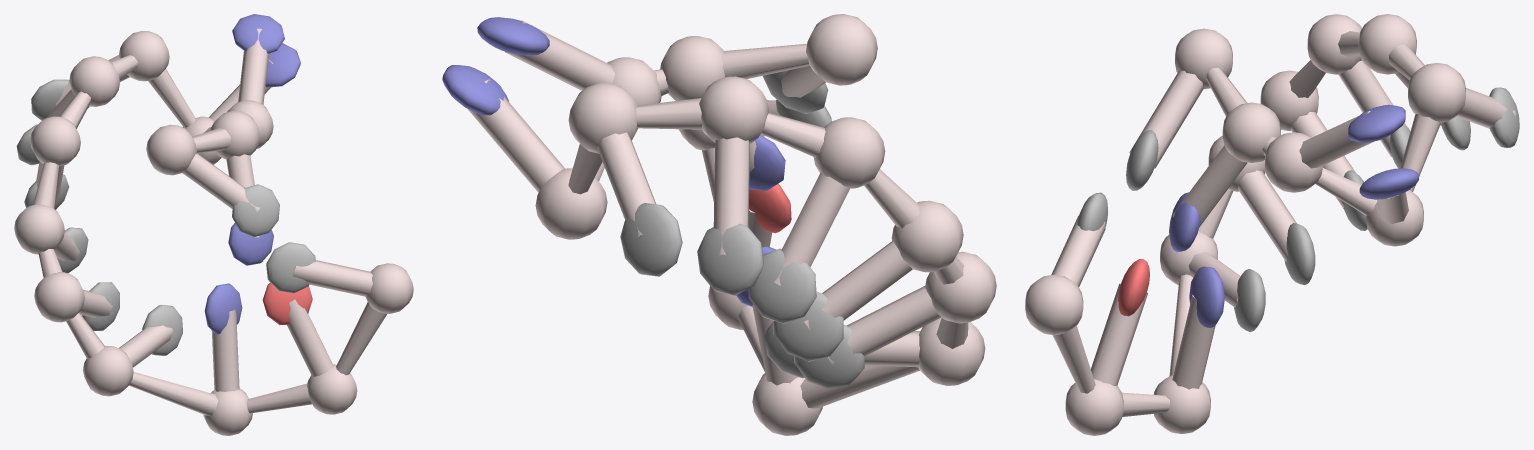
The model's file is single_kl180.gltf.
3 renders of one model, left to right at view 1: azimuth 30°, elevation 25°; view 2: azimuth 150°, elevation 25°; view 3: azimuth 270°, elevation 25°, orthographic. The views are drawn at different scales.
Parts seen in each view (by area): view 1: backbone_4, backbone_12, backbone_6, backbone_5, backbone_3, backbone_7, backbone_0, nucleoside_12, connector_0, backbone_1, backbone_8, connector_2 (+34 smaller); view 2: backbone_12, backbone_6, backbone_7, nucleoside_7, backbone_5, backbone_9, nucleoside_6, backbone_8, nucleoside_8, connector_9, connector_4, connector_5 (+30 smaller); view 3: backbone_0, backbone_8, backbone_11, backbone_1, connector_1, connector_12, backbone_7, backbone_10, connector_4, backbone_12, backbone_2, backbone_6 (+36 smaller).
Part boxes in pixels (left/top/right/bottom): backbone_4: left=34, top=272, right=84, bottom=322; backbone_12: left=146, top=124, right=196, bottom=175; backbone_6: left=30, top=116, right=80, bottom=166; backbone_5: left=14, top=204, right=64, bottom=254; backbone_3: left=83, top=346, right=133, bottom=396; backbone_7: left=69, top=56, right=119, bottom=106; backbone_0: left=365, top=263, right=413, bottom=313; nucleoside_12: left=232, top=184, right=279, bottom=237; connector_0: left=293, top=260, right=372, bottom=296; backbone_1: left=307, top=364, right=357, bottom=414; backbone_8: left=119, top=31, right=169, bottom=81; connector_2: left=211, top=310, right=239, bottom=392; backbone_12: left=806, top=14, right=877, bottom=85; backbone_6: left=813, top=117, right=885, bottom=188; backbone_7: left=699, top=76, right=768, bottom=143; nucleoside_7: left=697, top=223, right=763, bottom=295; backbone_5: left=891, top=200, right=963, bottom=272; backbone_9: left=535, top=168, right=607, bottom=239; nucleoside_6: left=748, top=248, right=816, bottom=323; backbone_8: left=568, top=83, right=637, bottom=153; nucleoside_8: left=620, top=203, right=682, bottom=276; connector_9: left=468, top=79, right=564, bottom=192; connector_4: left=828, top=286, right=941, bottom=364; connector_5: left=804, top=241, right=912, bottom=329; backbone_0: left=1025, top=274, right=1083, bottom=335; backbone_8: left=1408, top=63, right=1465, bottom=122; backbone_11: left=1222, top=102, right=1280, bottom=162; backbone_1: left=1065, top=379, right=1123, bottom=435; connector_1: left=1091, top=283, right=1147, bottom=385; connector_12: left=1129, top=70, right=1203, bottom=168; backbone_7: left=1358, top=14, right=1416, bottom=74; backbone_10: left=1265, top=132, right=1322, bottom=192; connector_4: left=1238, top=170, right=1296, bottom=261; backbone_12: left=1175, top=28, right=1232, bottom=89; backbone_2: left=1153, top=375, right=1210, bottom=433; backbone_6: left=1307, top=14, right=1361, bottom=74.
Size of what is drawn, in the model's own units: 2.91 by 2.81 by 3.24.
